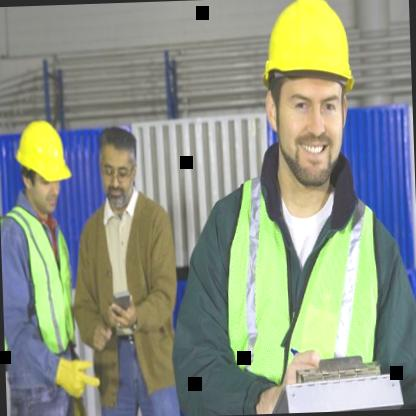head: (93, 123, 147, 218)
helmet: (247, 0, 360, 198), (11, 107, 80, 220)
